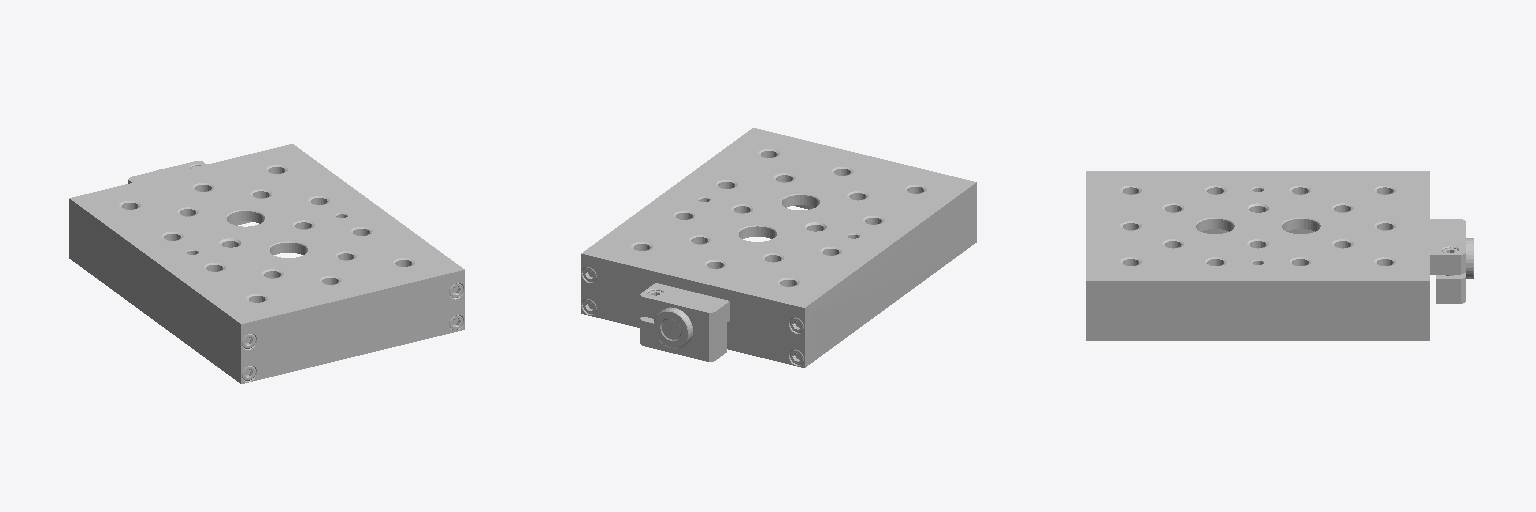
Rendered from PT1B_Top.obj.
The picture shows the model from 3 angles: view 1: azimuth 30°, elevation 25°; view 2: azimuth 150°, elevation 25°; view 3: azimuth 270°, elevation 25°; orthographic projection.
Parts seen in each view (by area): view 1: pCylinder108 group143; view 2: pCylinder108 group143; view 3: pCylinder108 group143.
Boxes of the visible parts, x1=… form: pCylinder108 group143: x1=69, y1=144, x2=464, y2=383; pCylinder108 group143: x1=581, y1=128, x2=976, y2=367; pCylinder108 group143: x1=1086, y1=171, x2=1473, y2=340.
Size of the model in its own units: 76.22 by 19.56 by 115.